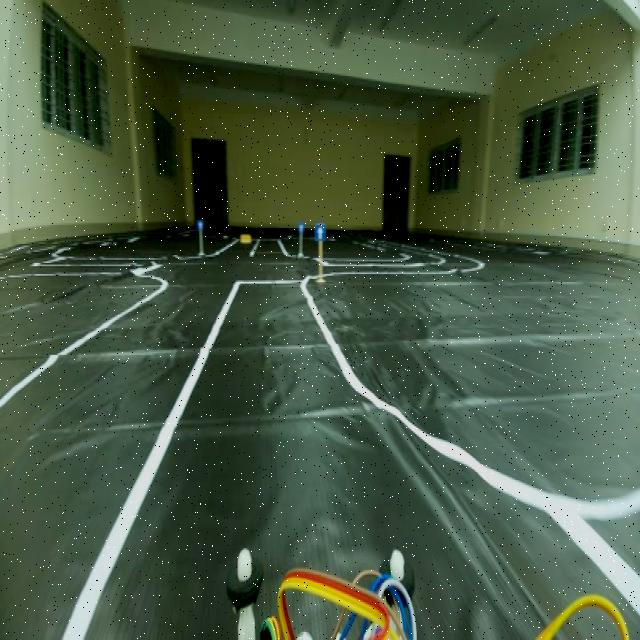onewayroad: (315, 220, 329, 242), (296, 220, 306, 236), (196, 217, 202, 233)
roadblock: (239, 232, 253, 246)
